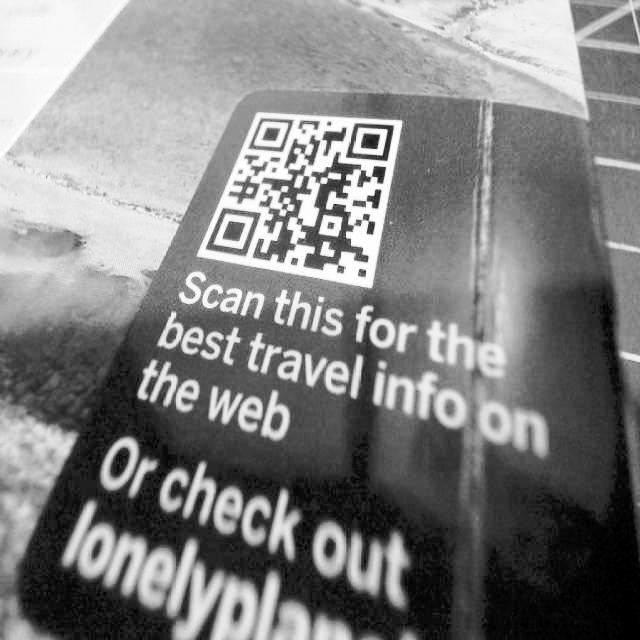qr_code: (198, 96, 406, 292)
